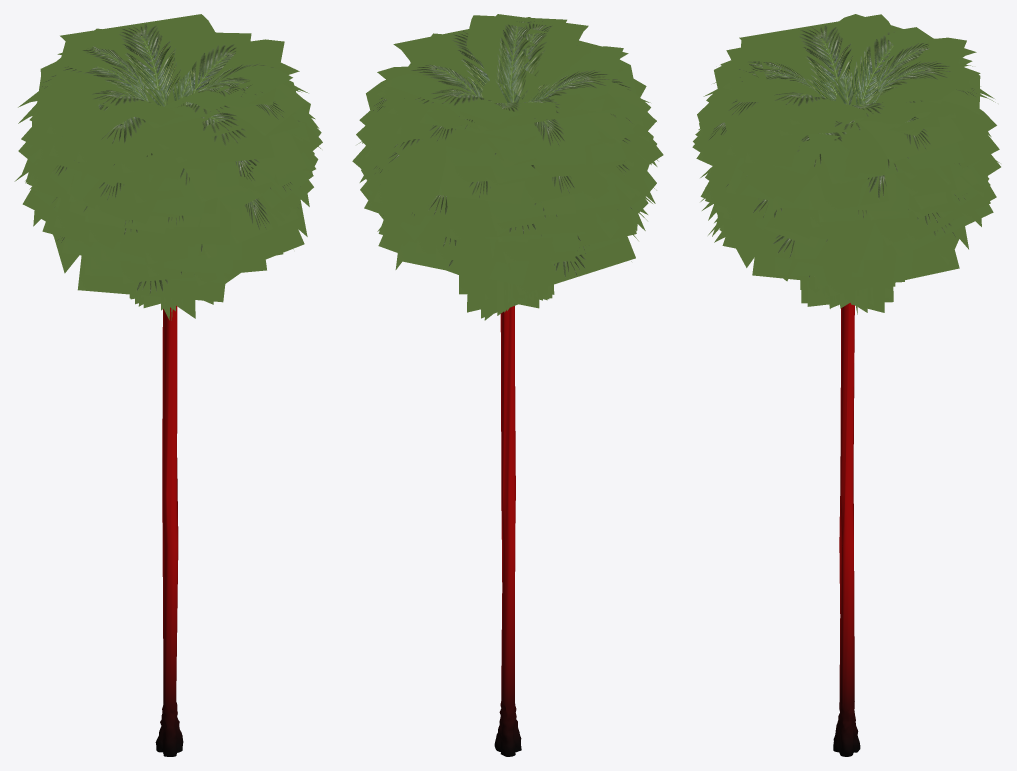
File: Palm_1_16.fbx
The picture shows the model from 3 angles, left to right: view 1: azimuth 30°, elevation 25°; view 2: azimuth 150°, elevation 25°; view 3: azimuth 270°, elevation 25°; orthographic projection.
Parts seen in each view (by area): view 1: Palm_1_16; view 2: Palm_1_16; view 3: Palm_1_16.
Part boxes in pixels (x1,y1,x2,y2): Palm_1_16: (14,14,322,756); Palm_1_16: (352,14,663,756); Palm_1_16: (692,14,1000,756).
Size of the model in its own units: 1803 by 4372 by 1777.
